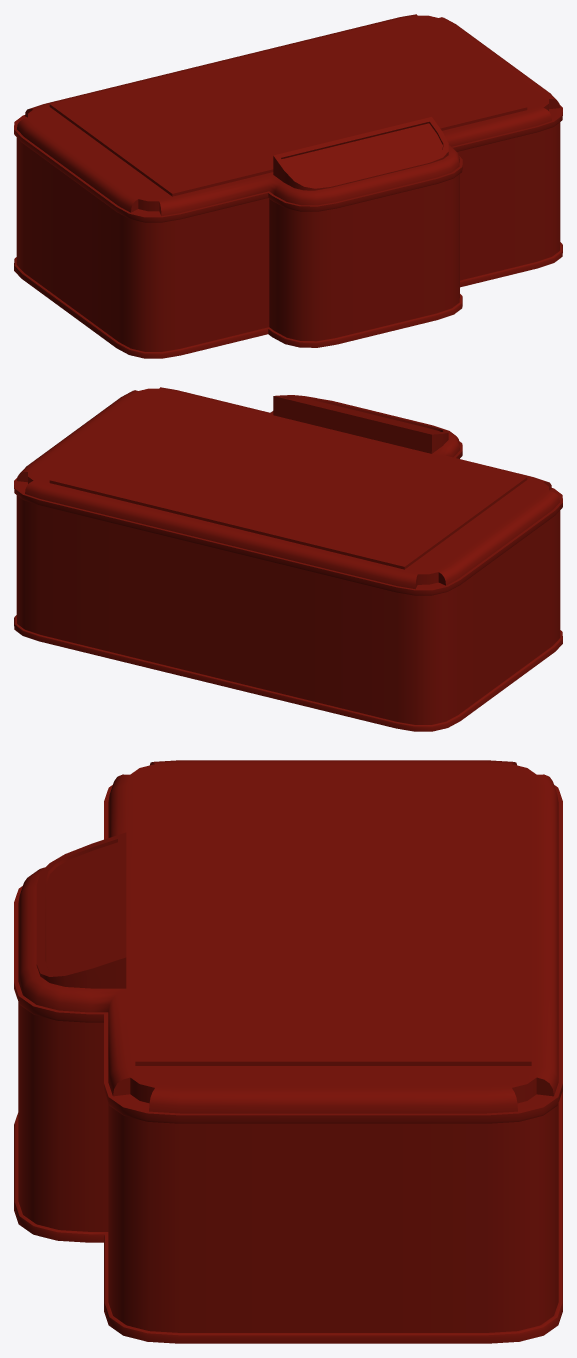
File: FabricatorTableBase.fbx
3 views of the same model, one above another, from view 1: azimuth 30°, elevation 25°; view 2: azimuth 150°, elevation 25°; view 3: azimuth 270°, elevation 25° (orthographic). The views are drawn at different scales.
Visible parts, largest first — view 1: FabricatorStation; view 2: FabricatorStation; view 3: FabricatorStation.
Part boxes in pixels (box(x1,y1,x2,y2)): FabricatorStation: box(14, 14, 562, 358); FabricatorStation: box(14, 387, 562, 731); FabricatorStation: box(14, 760, 562, 1343).
Bounding box in the file's own units: 91 × 33.83 × 61.
